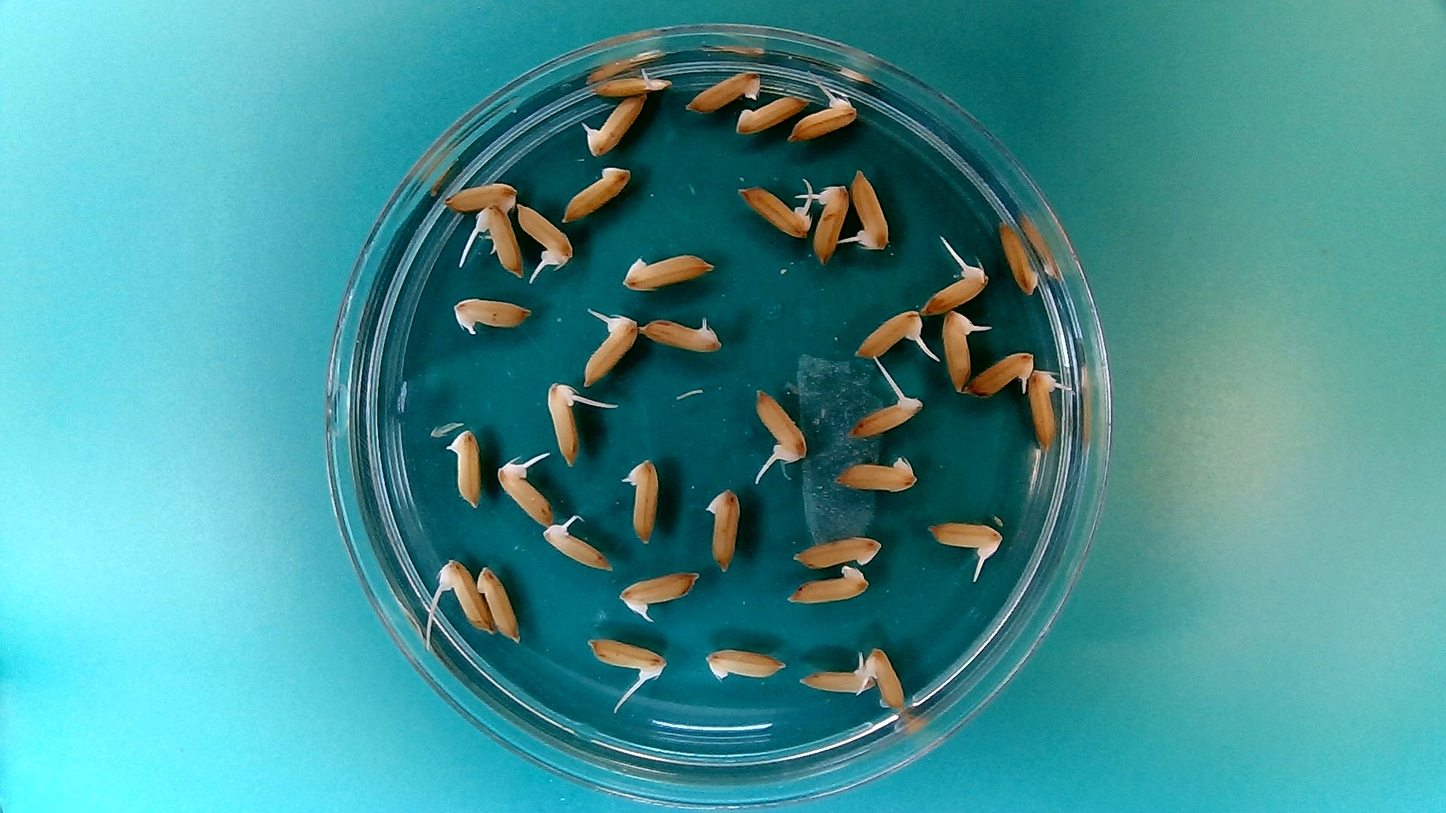no: (619, 247, 718, 292), (476, 560, 523, 646), (563, 167, 633, 224), (996, 215, 1042, 297), (734, 92, 813, 139), (684, 68, 763, 115), (788, 531, 883, 570), (703, 483, 742, 577), (785, 565, 874, 606), (830, 455, 920, 495), (443, 423, 482, 510), (703, 648, 790, 682)
yes: (614, 566, 703, 622), (844, 381, 927, 440), (752, 384, 811, 466), (584, 314, 643, 387), (786, 85, 861, 142), (737, 185, 813, 241), (616, 453, 661, 547), (854, 305, 930, 360), (496, 457, 554, 527), (858, 639, 911, 715), (638, 312, 726, 355), (584, 94, 648, 153), (450, 296, 535, 340), (966, 346, 1035, 400), (918, 264, 992, 314), (441, 562, 493, 632), (585, 637, 667, 681), (798, 649, 874, 696), (850, 169, 892, 254), (542, 525, 614, 574), (926, 519, 1004, 564), (812, 179, 850, 266), (1029, 364, 1066, 452), (477, 204, 520, 276), (545, 382, 580, 469), (517, 205, 569, 263), (940, 310, 975, 393), (447, 180, 522, 218), (588, 67, 669, 98)
